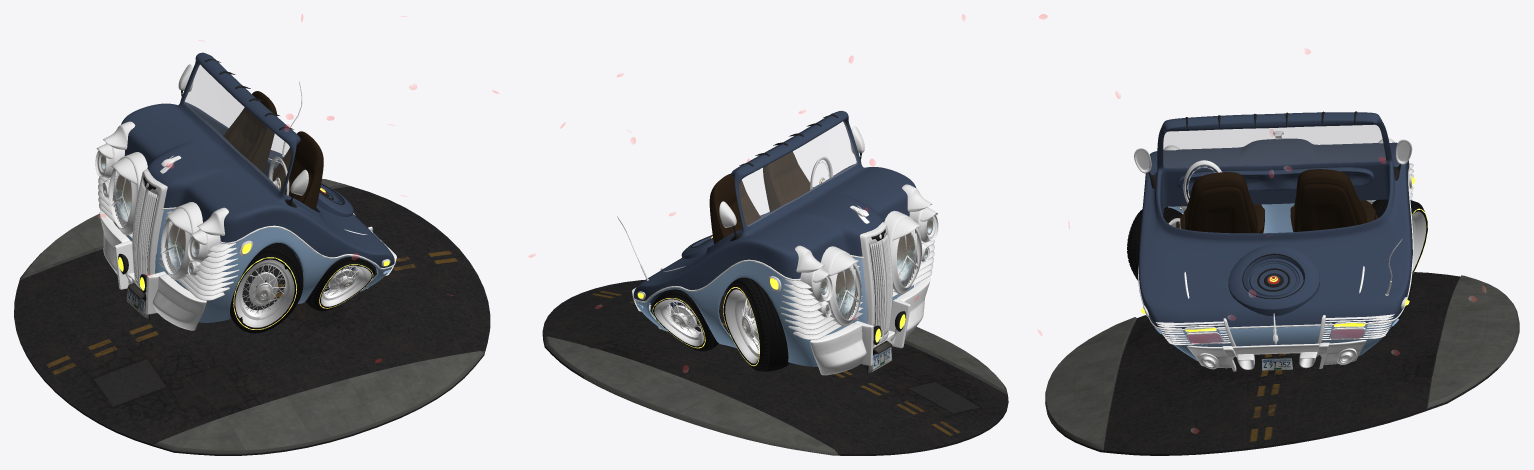
File: cartoon_vintage_car_stuts.glb
3 renders of one model, left to right at view 1: azimuth 30°, elevation 25°; view 2: azimuth 150°, elevation 25°; view 3: azimuth 270°, elevation 25°, orthographic. The views are drawn at different scales.
Visible parts, largest first — view 1: Plane.048_20, Plane.114_75, Plane.155_115, Plane.030_33, Plane.061_40, Plane.042_35, Rim.005_141, Plane.009_7, Rim.003_140, Plane.015_143, Rim.006_142, Plane.027_31 (+8 smaller); view 2: Plane.048_20, Plane.114_75, Plane.155_115, Plane.042_35, Plane.030_33, Rim.005_141, Plane.061_40, Plane.009_7, Rim.003_140, Plane.015_143, Plane.027_31, Rim.006_142 (+6 smaller); view 3: Plane.048_20, Plane.114_75, Plane.155_115, Plane.061_40, Cylinder.002_132, Plane.030_33, Plane.171_129, Plane.022_9, Plane.045_17, Rim.005_141, Plane.038_14, Plane.156_116 (+8 smaller).
Boxes of the visible parts, x1,y1,x2,y2 form: Plane.048_20: [14, 178, 490, 455]; Plane.114_75: [121, 52, 394, 267]; Plane.155_115: [184, 64, 290, 190]; Plane.030_33: [117, 209, 392, 322]; Plane.061_40: [223, 91, 323, 210]; Plane.042_35: [98, 152, 202, 280]; Rim.005_141: [230, 243, 374, 333]; Plane.009_7: [99, 210, 206, 330]; Rim.003_140: [239, 262, 365, 320]; Plane.015_143: [132, 168, 167, 288]; Rim.006_142: [235, 259, 371, 327]; Plane.027_31: [133, 181, 158, 280]; Plane.048_20: [542, 279, 1008, 455]; Plane.114_75: [633, 110, 916, 300]; Plane.155_115: [739, 121, 857, 226]; Plane.042_35: [780, 210, 922, 339]; Plane.030_33: [635, 257, 913, 366]; Rim.005_141: [651, 277, 789, 371]; Plane.061_40: [709, 151, 813, 244]; Plane.009_7: [810, 276, 930, 375]; Rim.003_140: [660, 294, 759, 356]; Plane.015_143: [860, 222, 892, 343]; Plane.027_31: [868, 234, 891, 336]; Rim.006_142: [654, 289, 758, 363]; Plane.048_20: [1045, 272, 1519, 455]; Plane.114_75: [1138, 112, 1412, 328]; Plane.155_115: [1163, 125, 1385, 167]; Plane.061_40: [1185, 169, 1367, 233]; Cylinder.002_132: [1228, 244, 1319, 316]; Plane.030_33: [1157, 200, 1396, 360]; Plane.171_129: [1177, 167, 1373, 191]; Plane.022_9: [1187, 340, 1366, 368]; Plane.045_17: [1155, 314, 1394, 345]; Rim.005_141: [1127, 199, 1427, 332]; Plane.038_14: [1138, 167, 1413, 330]; Plane.156_116: [1134, 139, 1412, 173].
Size of what is drawn, in the model's own units: 9.4 by 6.94 by 8.53.
18 materials, 7 textured.
